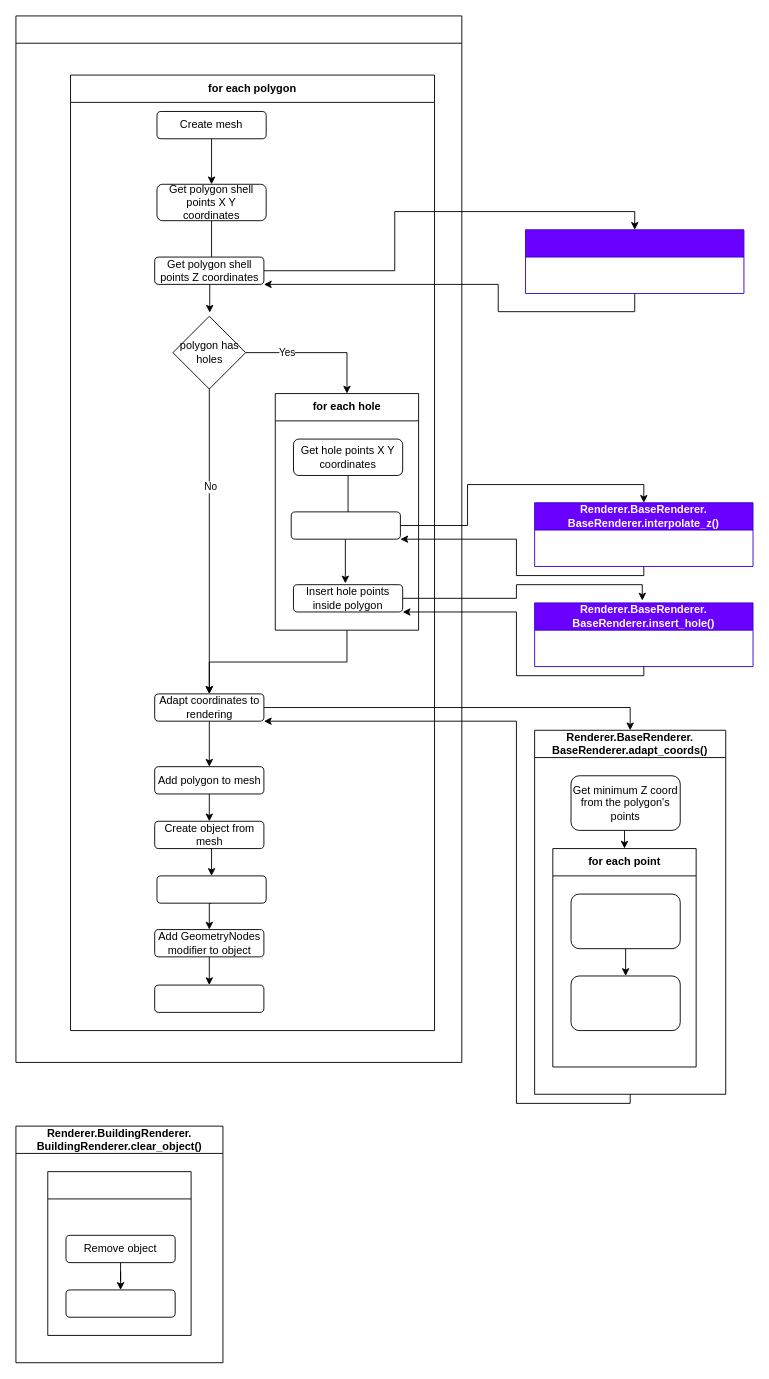
This 769x1379 diagram has some shape labels left out. Each missing label, with the box of its shape:
for each mesh name: (47, 1171, 191, 1335)
Get hole points Z coordinates: (290, 511, 400, 539)
Remove mesh: (65, 1289, 175, 1317)
Renderer.BuildingRenderer. BuildingRenderer.interpolate_z(): (525, 229, 744, 293)
Renderer.BuildingRenderer.BuildingRenderer.render(): (15, 15, 462, 1062)
Set the Z coord of the point to the min of the polygon: (570, 975, 680, 1031)
Setup building height: (154, 984, 264, 1012)
Store mesh name: (156, 875, 266, 903)
Substract scene center coordinates from points X Y coordinates: (570, 893, 680, 949)
